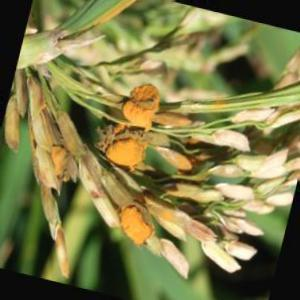Leaf_Scald: (114, 76, 160, 161), (122, 204, 148, 244), (46, 143, 71, 179)
